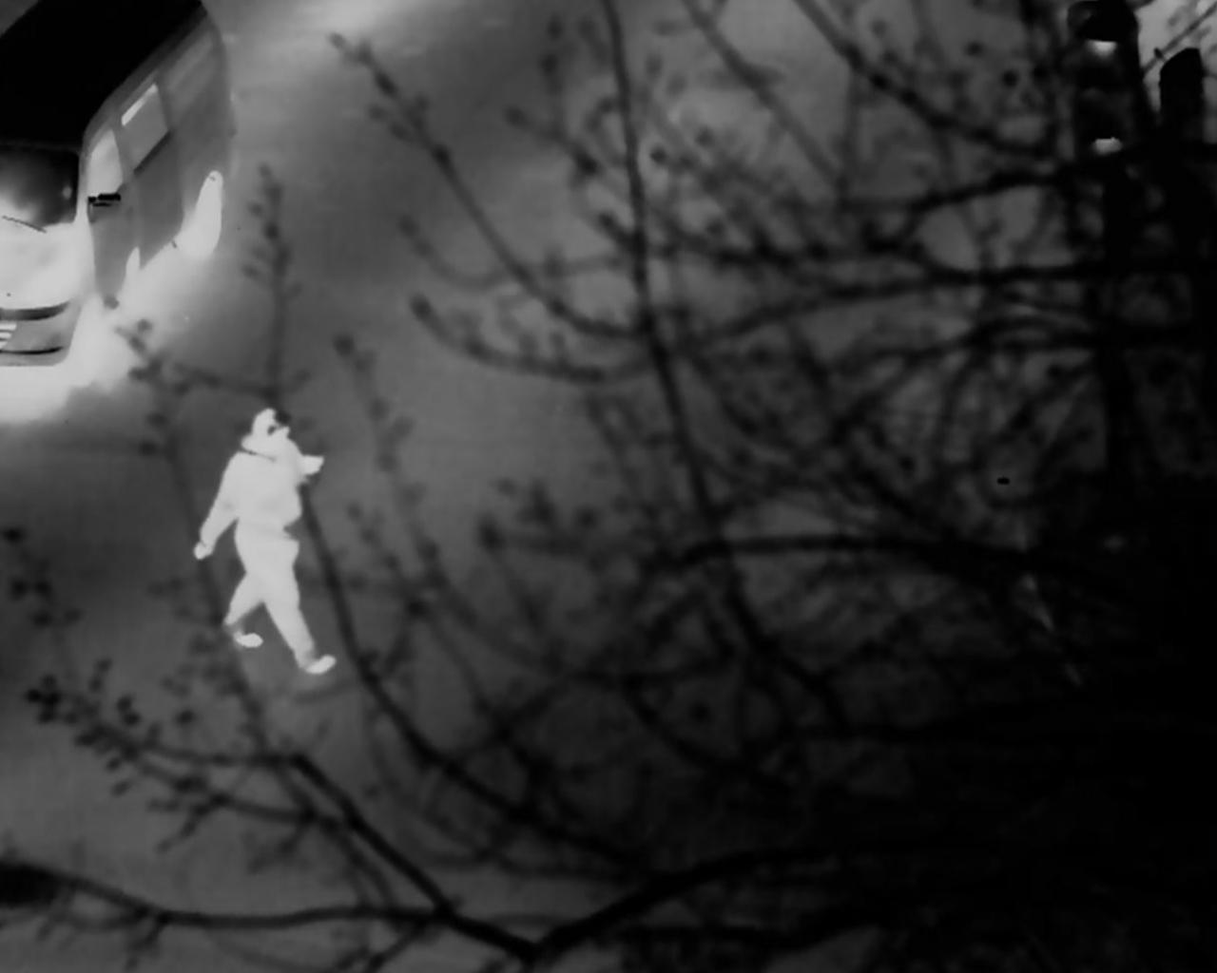person: (206, 399, 338, 677)
